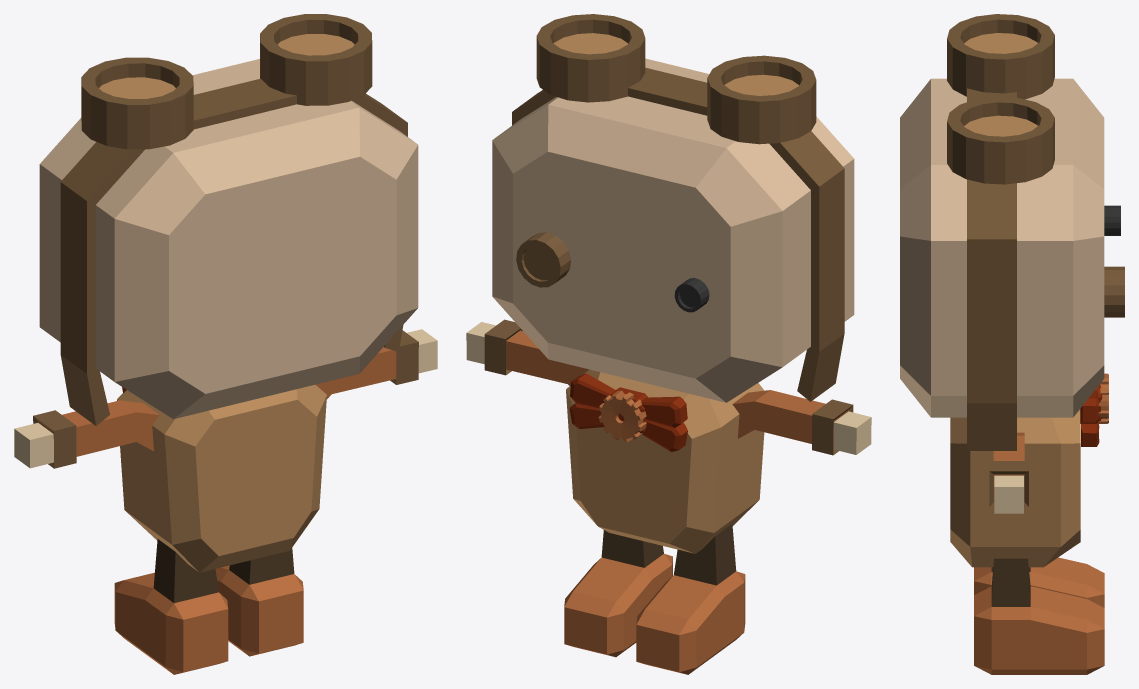
The model's file is lilCharlieForMixamoV3.fbx.
3 renders of one model, left to right at view 1: azimuth 30°, elevation 25°; view 2: azimuth 150°, elevation 25°; view 3: azimuth 270°, elevation 25°, orthographic. The views are drawn at different scales.
Visible parts, largest first — view 1: Body; view 2: Body; view 3: Body.
Boxes of the visible parts, left/top/right/bottom form: Body: left=14, top=14, right=437, bottom=674; Body: left=466, top=14, right=871, bottom=674; Body: left=900, top=14, right=1124, bottom=674.
Size of the model in its own units: 7.11 by 9.96 by 3.57.
